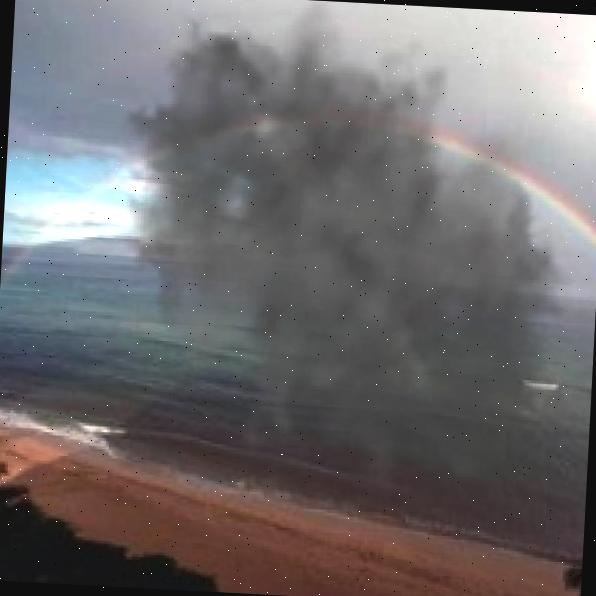smoke: (72, 0, 596, 529)
